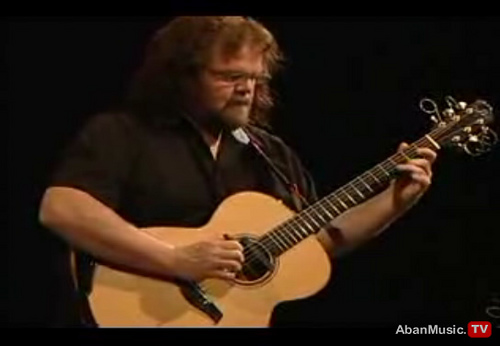guitar: (87, 96, 496, 329)
